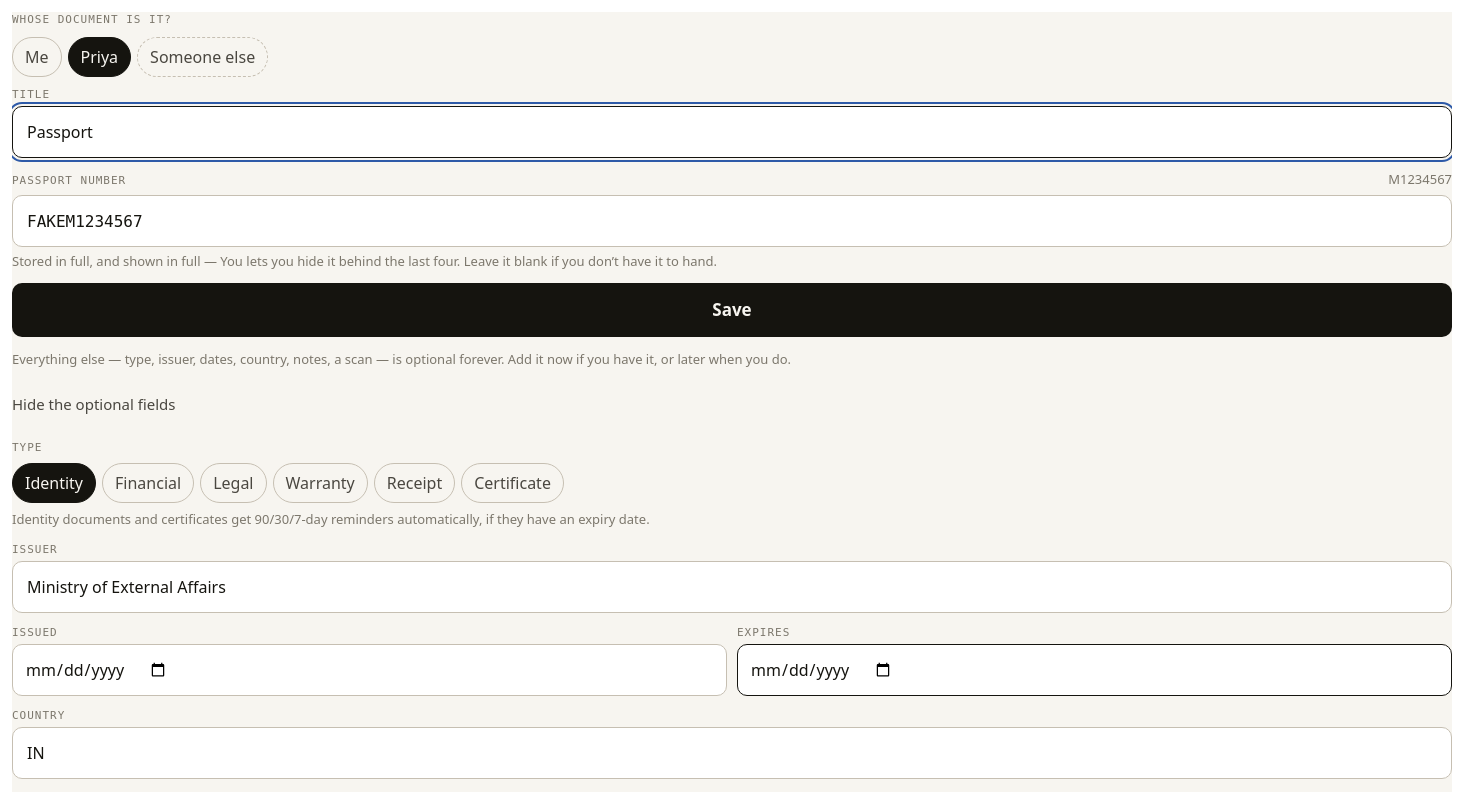
Test: DocumentForm › re-opening the fields to rename someone starts from their current name
expect the field labelled "Their name" is not shown: met
Click the button "Someone else" at (203, 56), box [137, 36, 268, 76]
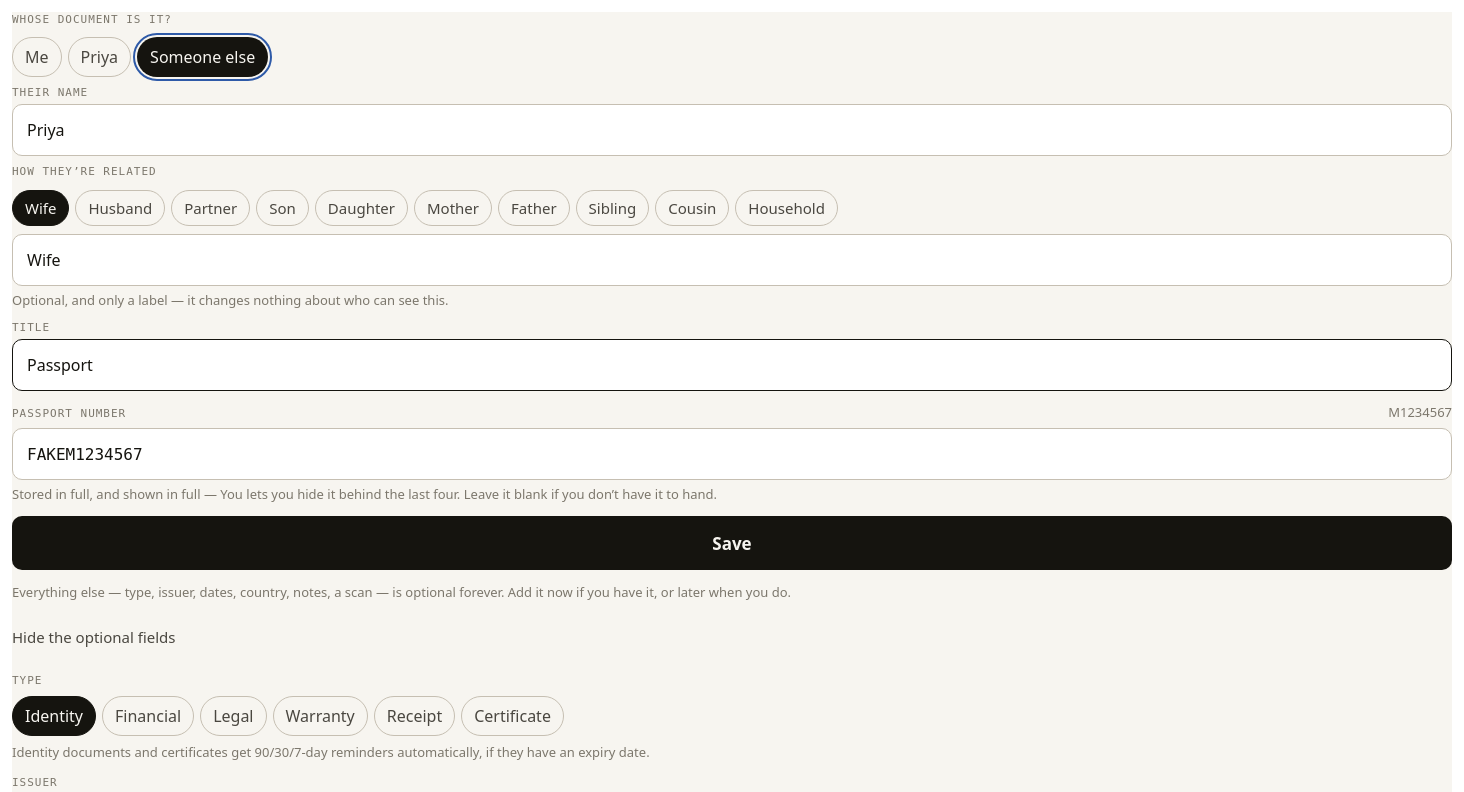
expect the field labelled "Their name" holds "Priya": met, box [12, 104, 1452, 156]
